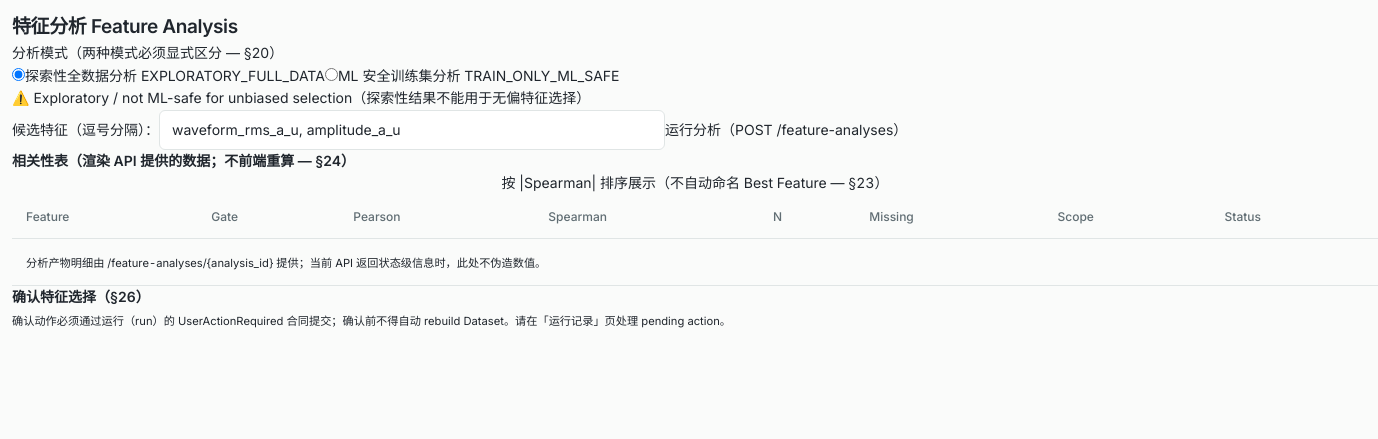
Test: FeatureAnalysisPage（§62 T25-T31） › T28/T31 运行分析走 POST /feature-analyses（API-only）
Click the button with test id "run-analysis": (786, 130) [665,119,907,141]
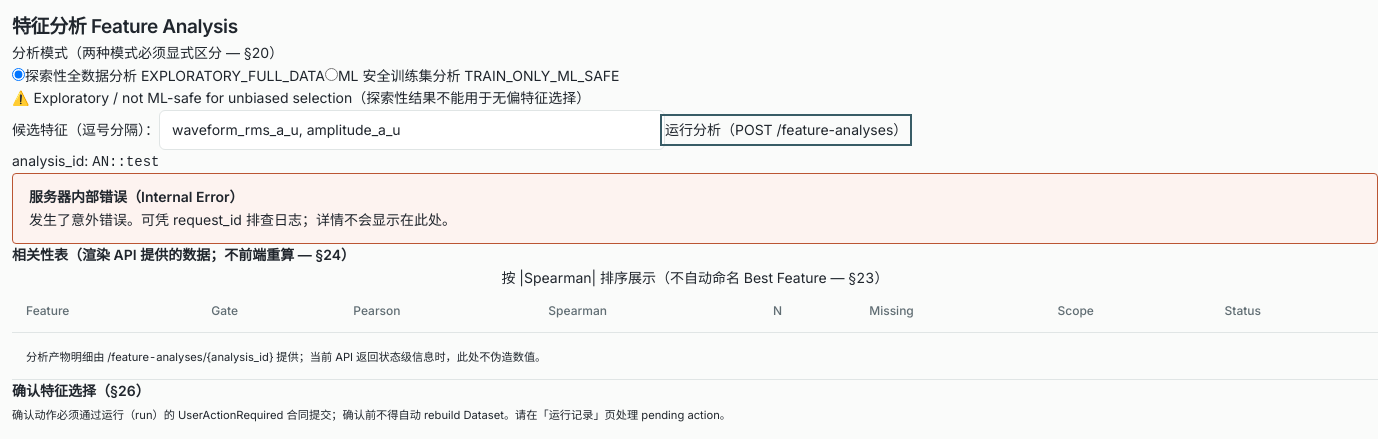
expect the table with test id "correlation-table" shows "不伪造数值": met, box [273,350,546,364]
expect the element with test id "analysis-result" shows "AN::test": met, box [92,154,160,170]
